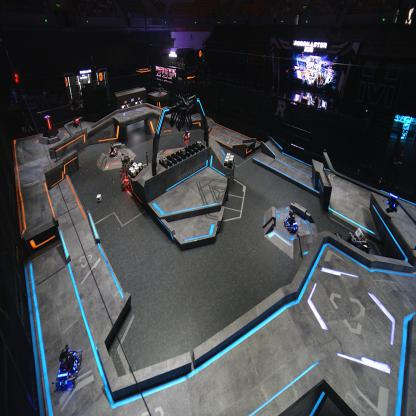car: (334, 230, 371, 265), (55, 343, 83, 389), (119, 155, 136, 188), (282, 209, 299, 235), (107, 142, 116, 157), (182, 128, 191, 141)
